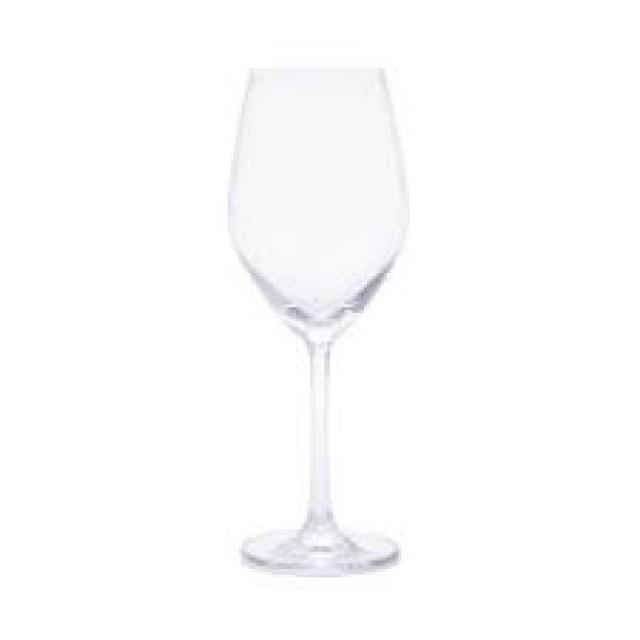glass: (228, 62, 407, 569)
